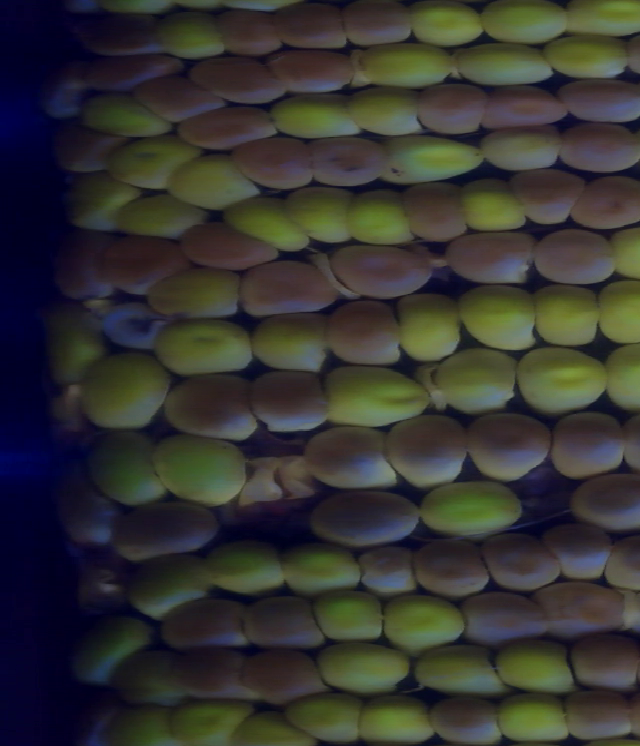fluorescent: (312, 359, 436, 434), (73, 349, 177, 436), (512, 339, 619, 421), (146, 429, 252, 509), (410, 472, 530, 541), (77, 426, 175, 509), (142, 313, 257, 379), (59, 610, 156, 688), (120, 547, 218, 624), (433, 340, 526, 419), (374, 586, 476, 658), (449, 281, 544, 357), (372, 129, 488, 191), (308, 633, 417, 698), (242, 308, 339, 377), (40, 298, 111, 392), (162, 150, 261, 216), (408, 638, 509, 702), (198, 534, 295, 600), (449, 36, 561, 93), (339, 78, 437, 142), (489, 631, 584, 697), (388, 287, 470, 363), (100, 133, 209, 190), (217, 195, 314, 259), (107, 187, 212, 246), (262, 87, 369, 144), (526, 278, 607, 353), (53, 170, 141, 238), (142, 266, 248, 322), (272, 537, 370, 597), (72, 88, 178, 143), (305, 585, 393, 650), (159, 693, 265, 746), (541, 30, 636, 89), (473, 119, 573, 175), (339, 185, 424, 250), (279, 182, 361, 248), (353, 38, 461, 88), (349, 689, 440, 746), (107, 645, 191, 706), (276, 688, 364, 746), (490, 686, 573, 746), (473, 1, 575, 48), (400, 1, 490, 53), (456, 176, 534, 236), (148, 7, 231, 62), (88, 698, 180, 746), (591, 273, 640, 348), (227, 705, 315, 746), (596, 338, 640, 417), (561, 1, 640, 40), (599, 223, 640, 283)
nonfluorescent: (294, 420, 408, 498), (153, 368, 265, 445), (379, 407, 474, 494), (460, 407, 560, 488), (105, 496, 229, 561), (305, 484, 424, 551), (230, 253, 342, 321), (322, 239, 437, 302), (171, 215, 286, 275), (528, 577, 634, 642), (318, 294, 405, 373), (241, 363, 332, 438), (439, 224, 539, 292), (235, 587, 334, 654), (98, 229, 194, 298), (232, 642, 328, 711), (46, 463, 125, 546), (154, 592, 254, 657), (455, 584, 554, 649), (544, 408, 633, 480), (524, 223, 621, 289), (472, 525, 563, 595), (171, 99, 284, 155), (403, 533, 496, 601), (44, 224, 118, 307), (535, 516, 620, 588), (30, 34, 97, 125), (68, 5, 173, 63), (183, 51, 289, 107), (166, 642, 257, 707), (301, 131, 394, 193), (556, 627, 640, 695), (505, 163, 589, 230), (229, 134, 321, 195), (395, 177, 475, 245), (125, 76, 232, 126), (409, 77, 494, 138), (551, 118, 640, 176), (562, 469, 640, 535), (263, 43, 358, 96), (562, 171, 640, 235), (45, 118, 126, 179), (423, 689, 509, 746), (210, 4, 290, 65), (559, 684, 637, 746), (553, 72, 640, 127), (476, 81, 569, 132), (270, 1, 351, 58), (334, 1, 421, 53), (83, 50, 189, 90), (352, 541, 421, 600), (598, 532, 640, 599)
